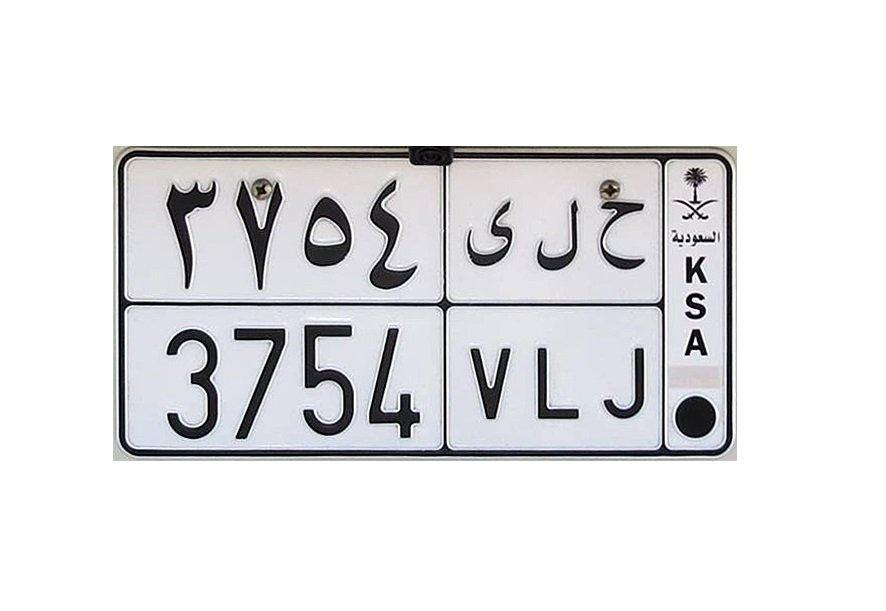3: (162, 180, 222, 441)
4: (366, 177, 426, 440)
5: (300, 196, 357, 437)
7: (231, 177, 288, 447)
J: (599, 197, 649, 420)
L: (531, 194, 584, 421)
V: (460, 196, 512, 421)
